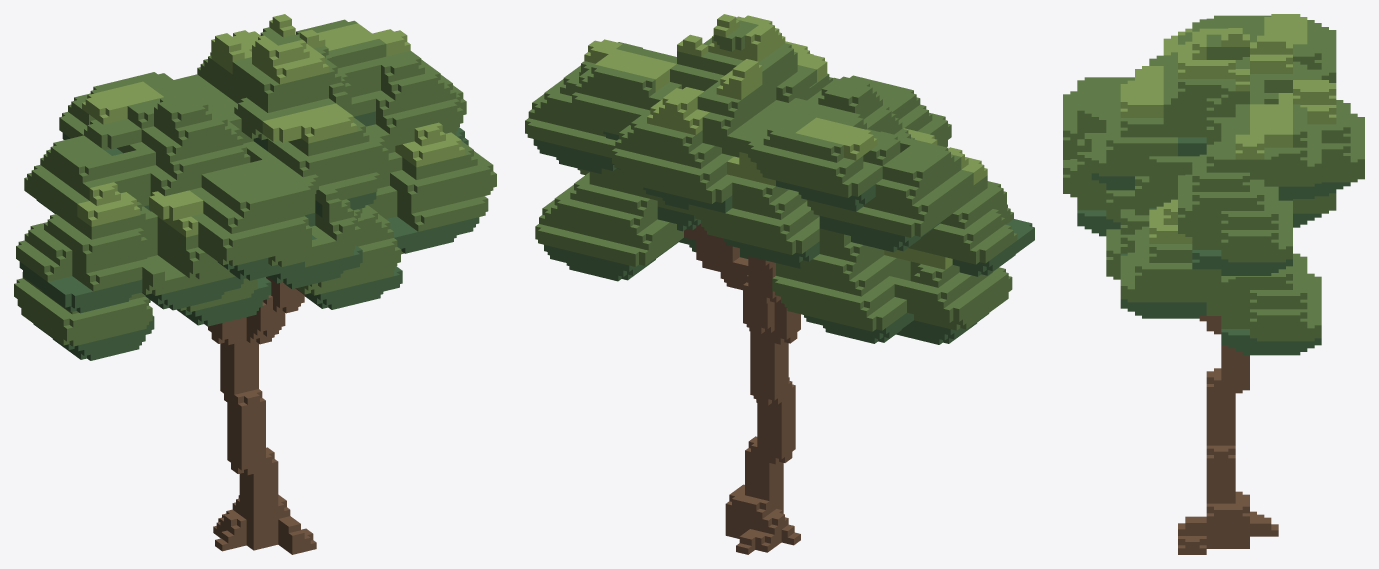
The model's file is hearthvale_tree_orchard.obj.
3 renders of one model, left to right at view 1: azimuth 30°, elevation 25°; view 2: azimuth 150°, elevation 25°; view 3: azimuth 270°, elevation 25°, orthographic.
Parts seen in each view (by area): view 1: palette_2, palette_4, palette_3, palette_1; view 2: palette_2, palette_1, palette_4, palette_3; view 3: palette_2, palette_4, palette_1, palette_3.
Boxes of the visible parts, x1=… form: palette_2: x1=14, y1=19, x2=496, y2=346; palette_4: x1=77, y1=14, x2=465, y2=237; palette_3: x1=19, y1=111, x2=479, y2=360; palette_1: x1=208, y1=276, x2=316, y2=554; palette_2: x1=525, y1=19, x2=1017, y2=331; palette_1: x1=684, y1=223, x2=800, y2=554; palette_4: x1=584, y1=14, x2=987, y2=269; palette_3: x1=533, y1=131, x2=1034, y2=344; palette_2: x1=1063, y1=15, x2=1364, y2=341; palette_4: x1=1120, y1=14, x2=1336, y2=243; palette_1: x1=1178, y1=316, x2=1278, y2=554; palette_3: x1=1077, y1=137, x2=1350, y2=355.
Bounding box in the file's own units: 4.5 × 5 × 2.62.
